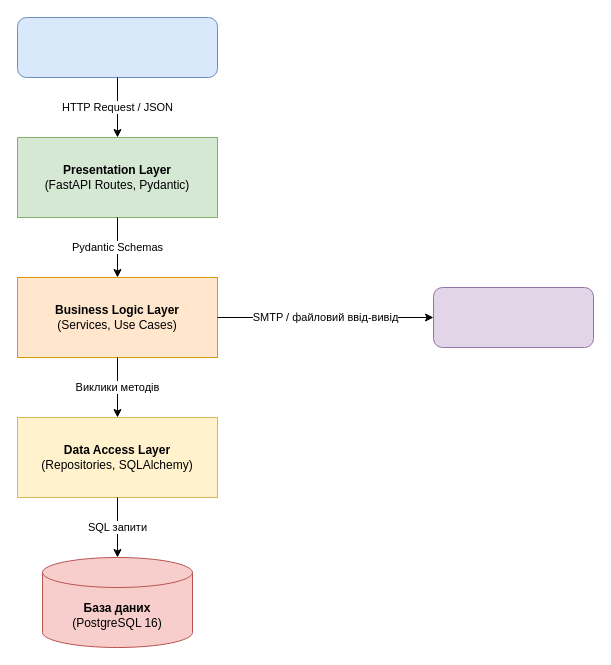
Some shapes in this 611 by 665 pixel diagram are drawn without their labels. The centre of each missing label's shape, as x and y in pixels:
"Зовнішні сервіси (SMTP, Сховище звітів)" goes at point 513,317.
"Зовнішній клієнт (Браузер / Mobile / Postman)" goes at point 117,47.
